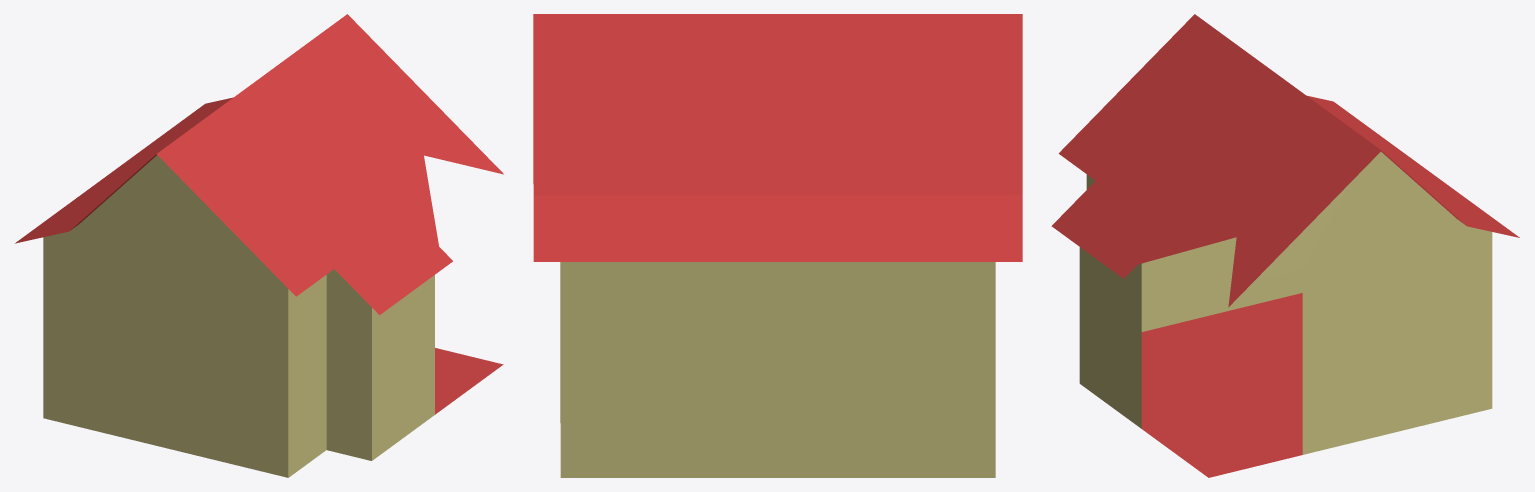
3 views of the same model, side by side, from view 1: azimuth 30°, elevation 25°; view 2: azimuth 150°, elevation 25°; view 3: azimuth 270°, elevation 25° (orthographic). The views are drawn at different scales.
Size of the model in its own units: 17.88 by 17.04 by 11.83.
